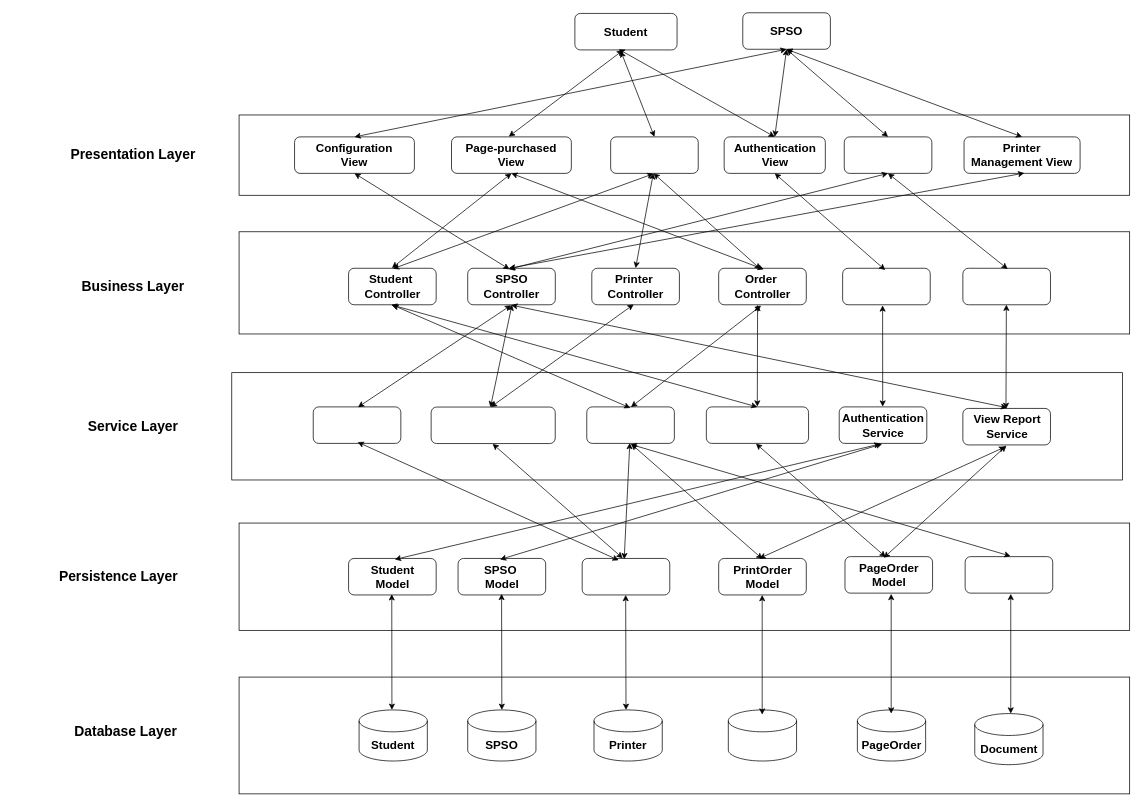
The diagram is 1142 pixels wide and 807 high, and some of its shapes have lost their labels. The shapes that lost their labels are listed below. From the top down, each one's box as (x1, y1, x2, y2) in pixels, then its label:
(610, 136, 698, 173): Printing View
(844, 136, 932, 173): Report View
(842, 268, 930, 305): Authentication Controller
(962, 268, 1050, 305): Report Controller
(313, 406, 401, 443): Configuration Service
(430, 406, 555, 444): Printer Management Service
(586, 406, 674, 443): Printing Service
(706, 406, 809, 443): Page-purchased Service
(581, 558, 670, 595): Printer Model
(964, 556, 1053, 593): Document Model
(728, 709, 797, 761): PrintOrder
